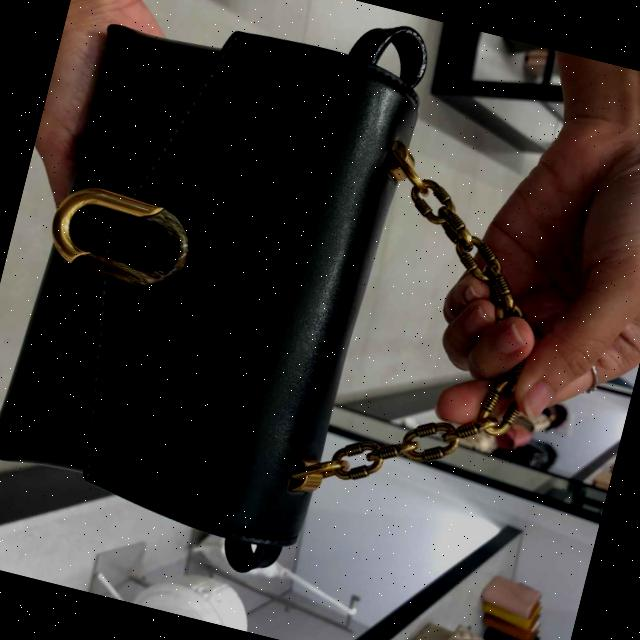handbag: (0, 0, 432, 562)
